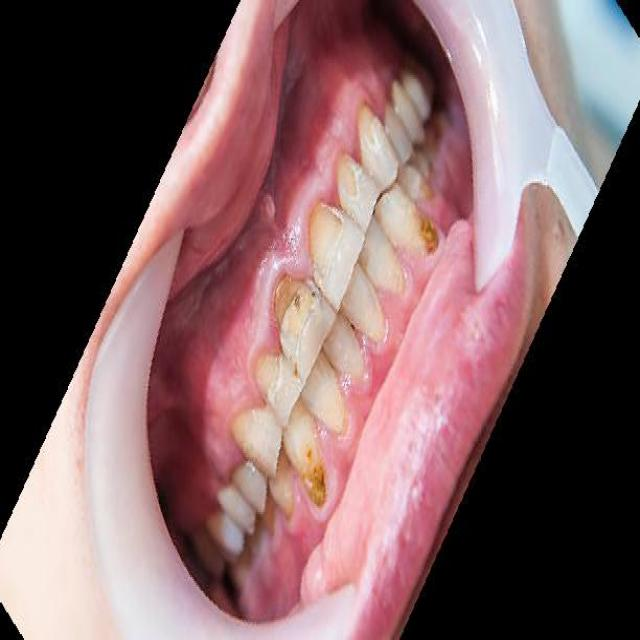caries: (270, 268, 318, 348), (304, 202, 344, 282), (252, 347, 287, 400), (356, 100, 385, 157), (335, 152, 363, 205)
